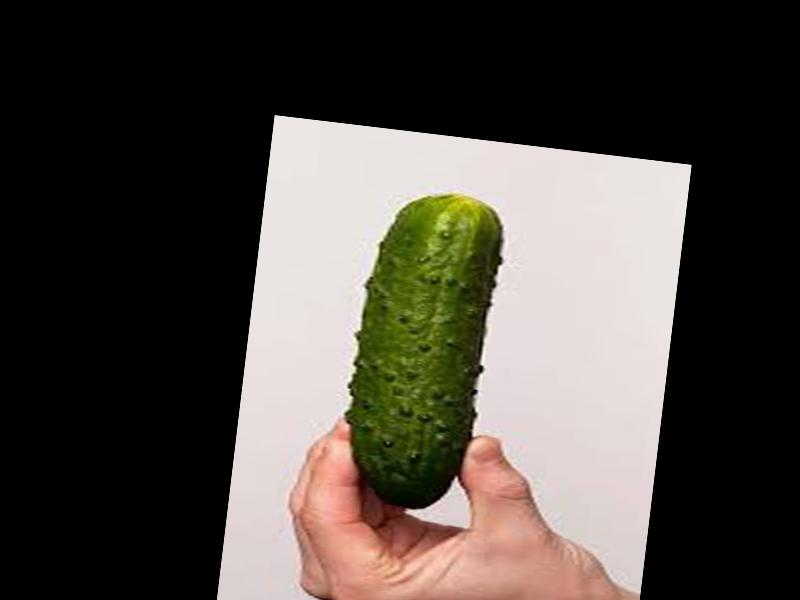Cucumber: (337, 186, 497, 515)
